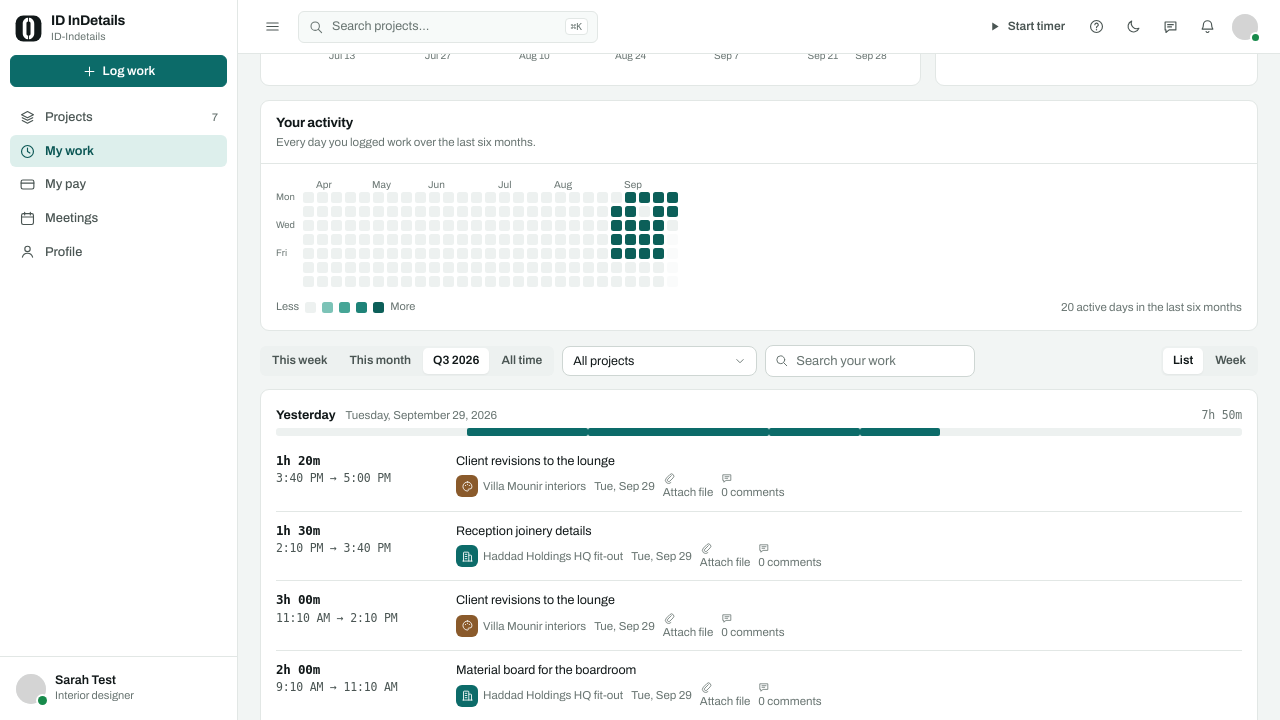
Test: My work (Design) › shows the week as a calendar
(page scrolled)
Click the tab "Week": (1231, 361) [1205, 348, 1256, 374]
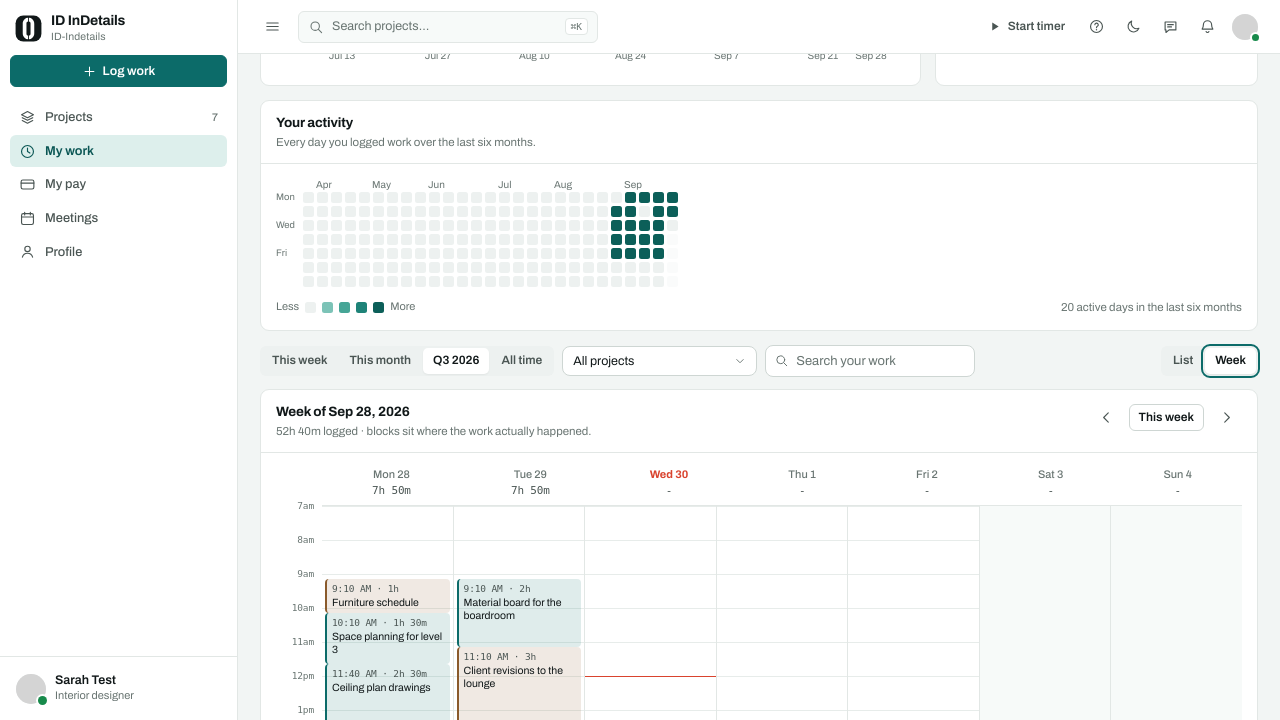
Now the text "Week of Sep 28, 2026" is shown, box [276, 404, 410, 419]
Click the button named "Previous week": (1107, 418) [1091, 402, 1123, 434]
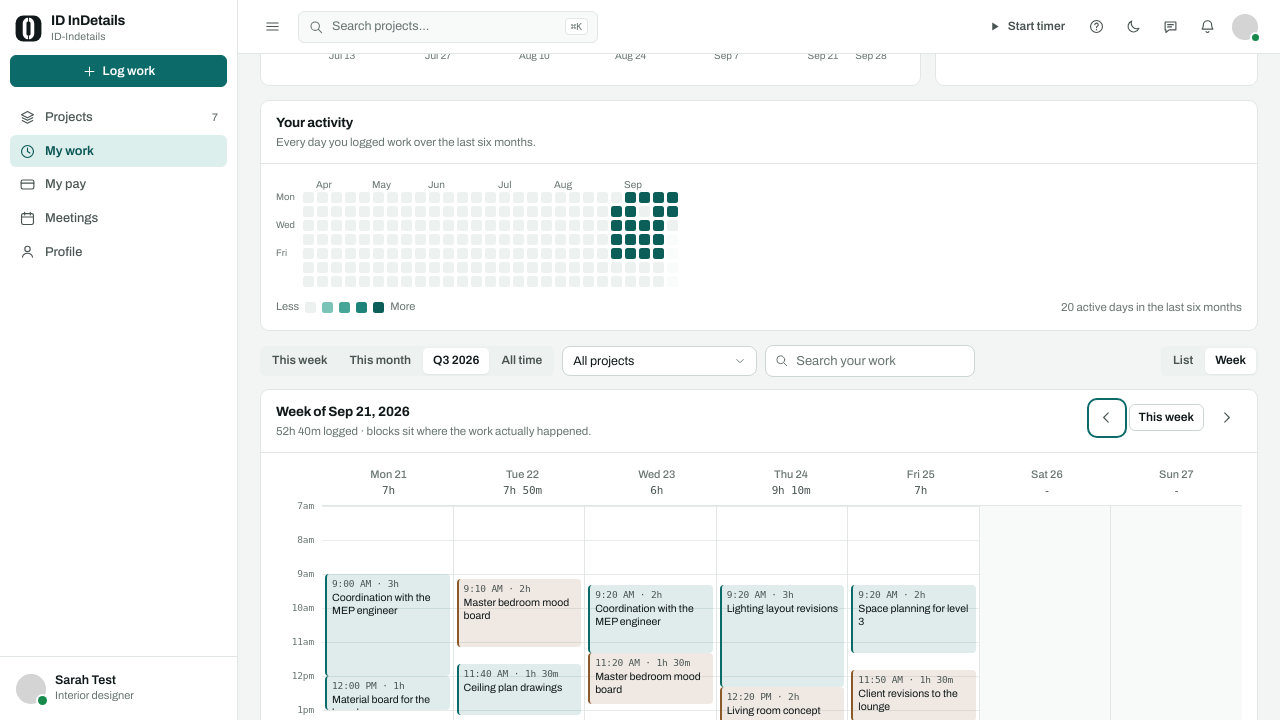
Now the text "Week of Sep 21, 2026" is shown, box [276, 404, 410, 419]
